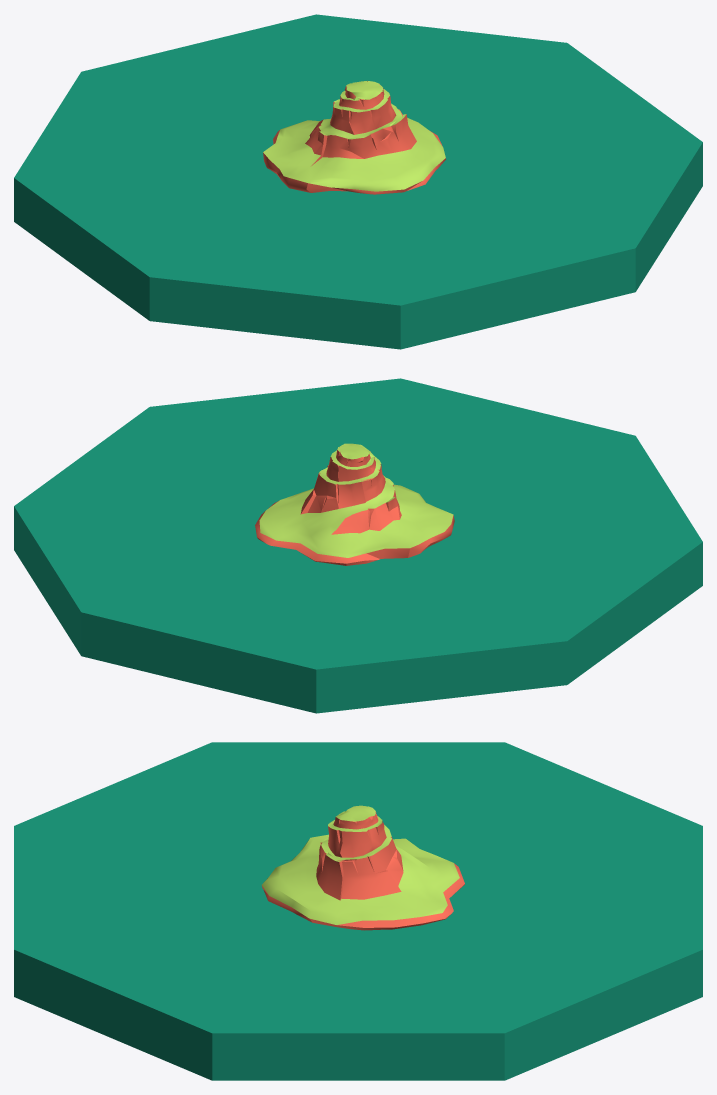
File: Island.fbx
3 renders of one model, top to bottom at view 1: azimuth 30°, elevation 25°; view 2: azimuth 150°, elevation 25°; view 3: azimuth 270°, elevation 25°, orthographic. The views are drawn at different scales.
Parts seen in each view (by area): view 1: yet, Plane.014; view 2: yet, Plane.014; view 3: yet, Plane.014.
Boxes of the visible parts, bbox=[...] form: yet: bbox=[14, 14, 702, 349]; Plane.014: bbox=[263, 80, 445, 194]; yet: bbox=[14, 378, 702, 713]; Plane.014: bbox=[255, 443, 454, 565]; yet: bbox=[14, 742, 702, 1080]; Plane.014: bbox=[261, 805, 464, 930].
Size of the model in its own units: 47873 by 9633 by 47873.
